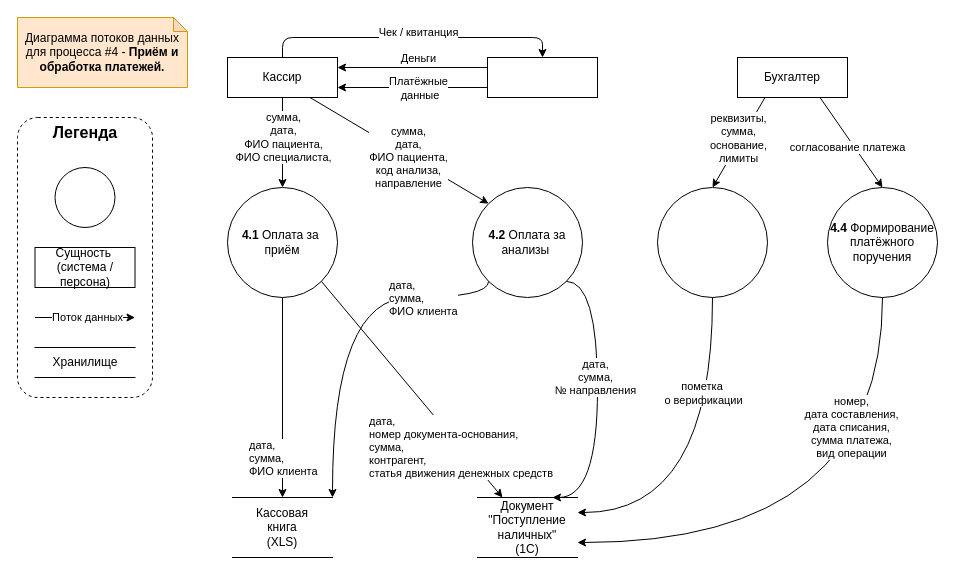
Image size: 955x575. Some labels were removed from this diagram. The centre of each missing label's shape, as x and y in pixels:
"4.3 Проверка и верификация платежа" belongs at point (712, 242).
"Пациент" belongs at point (542, 77).
"Процесс" belongs at point (84, 197).
